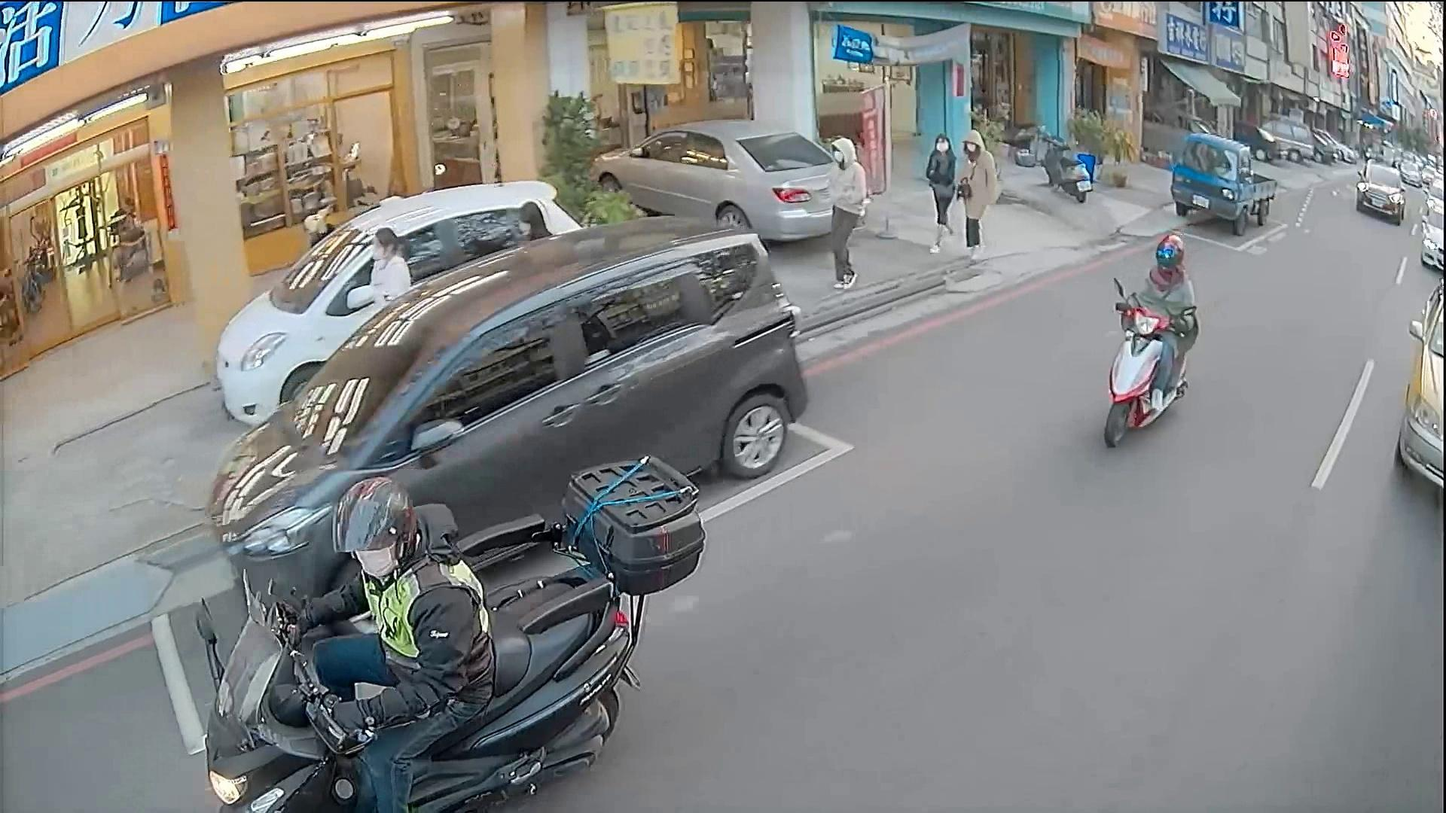person: (273, 465, 501, 810), (1109, 230, 1197, 416), (816, 126, 871, 289), (950, 129, 999, 254), (923, 129, 963, 256), (360, 225, 413, 320), (512, 190, 554, 246)
